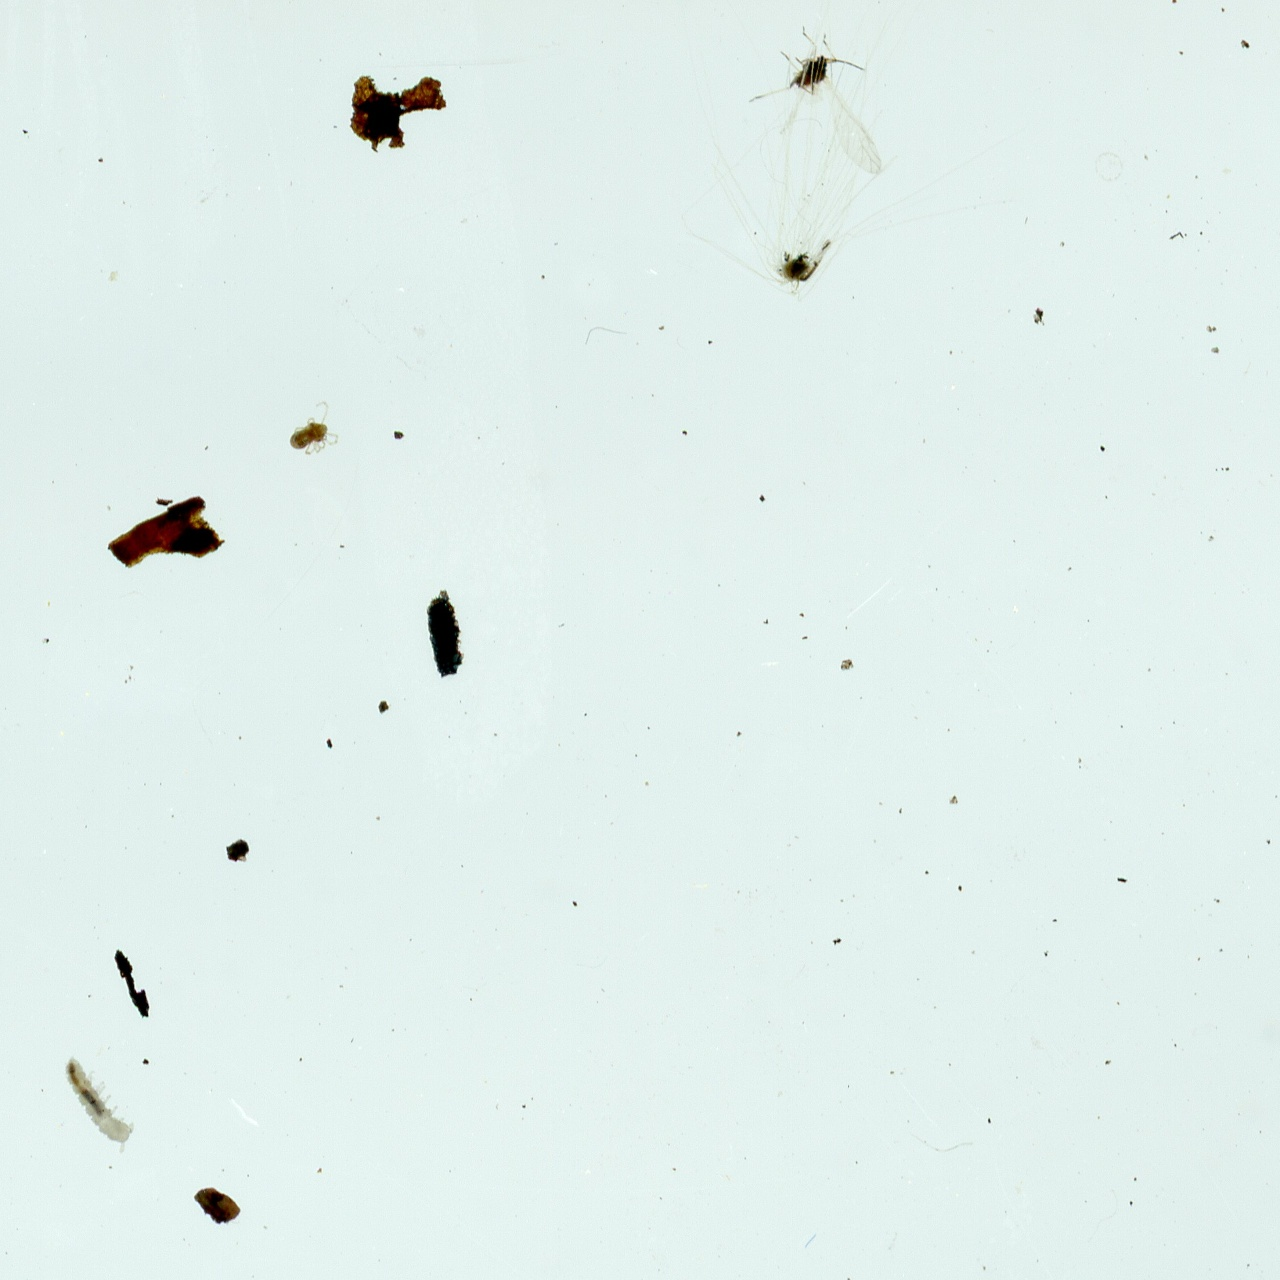arthropod: (744, 15, 892, 188), (43, 1039, 151, 1165), (288, 399, 340, 461)
